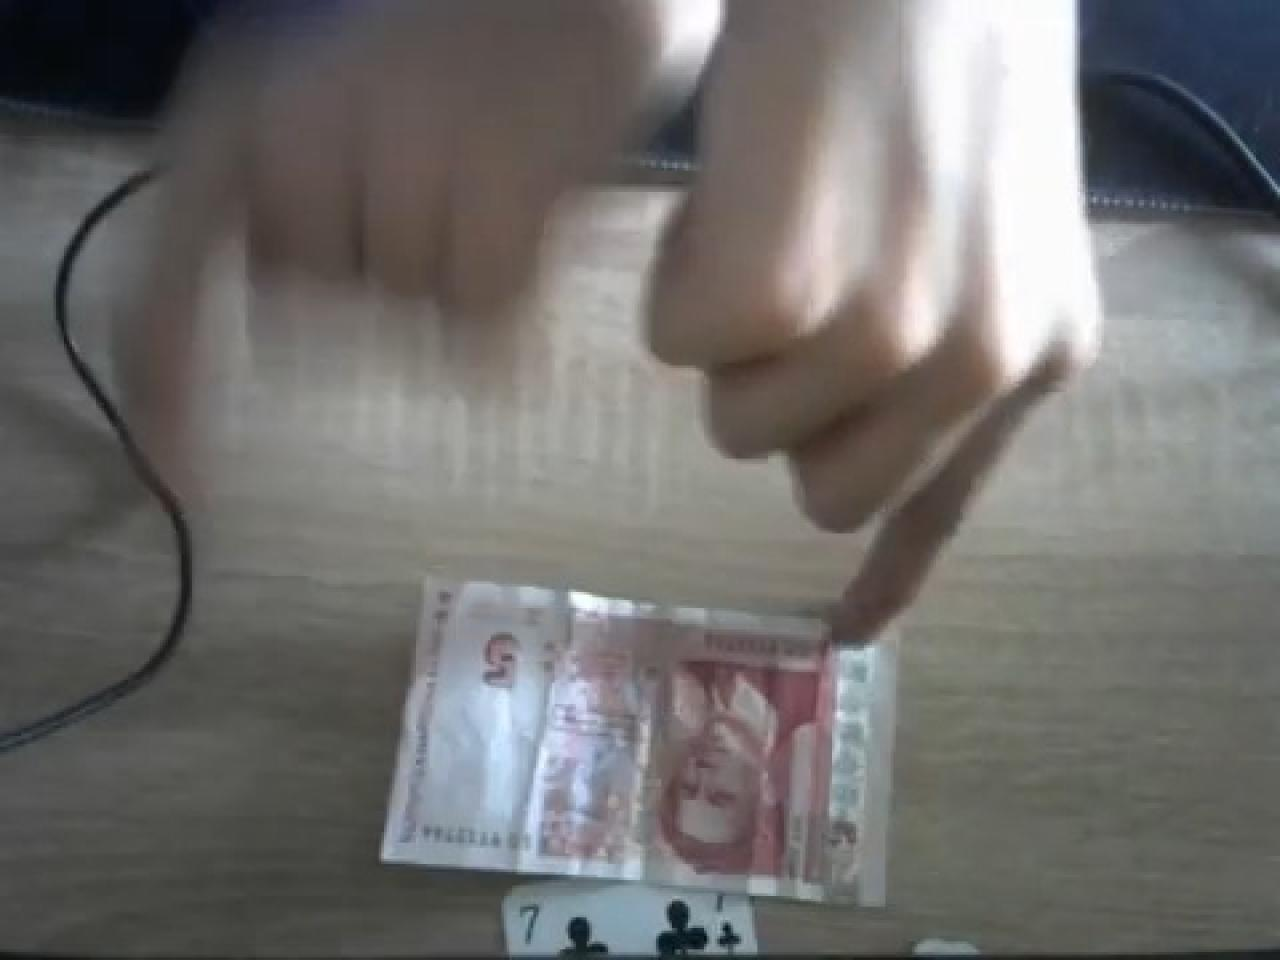5leva: (515, 592, 840, 888)
